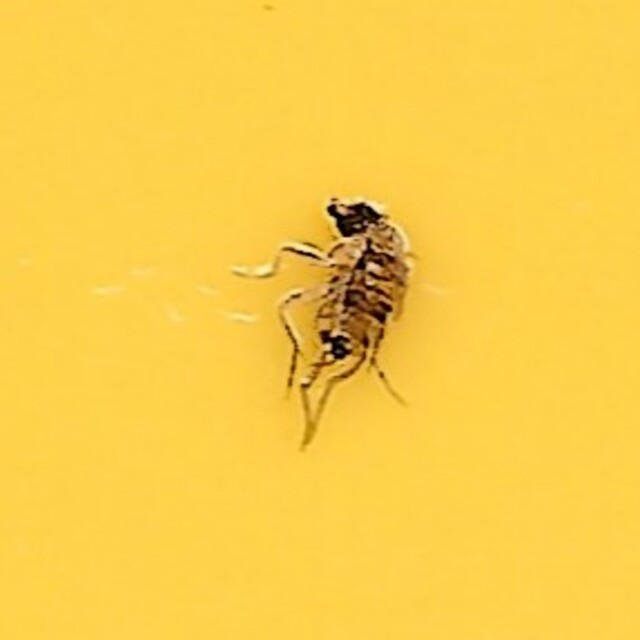Brachycera: (223, 193, 417, 447)
